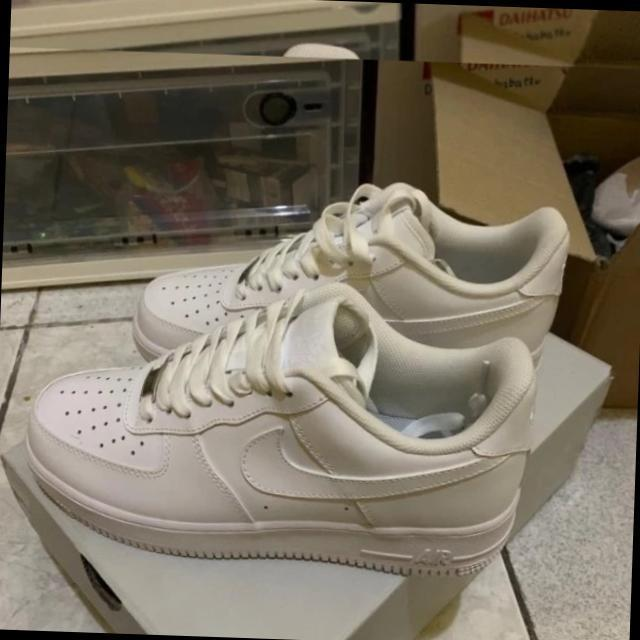nike original air force: (18, 272, 540, 580), (119, 178, 582, 370)
